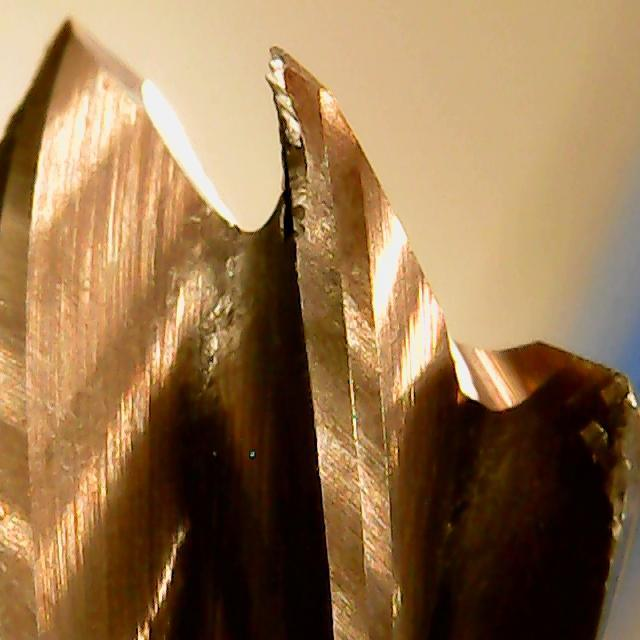Tool-wear-class-1: (246, 42, 393, 280)
